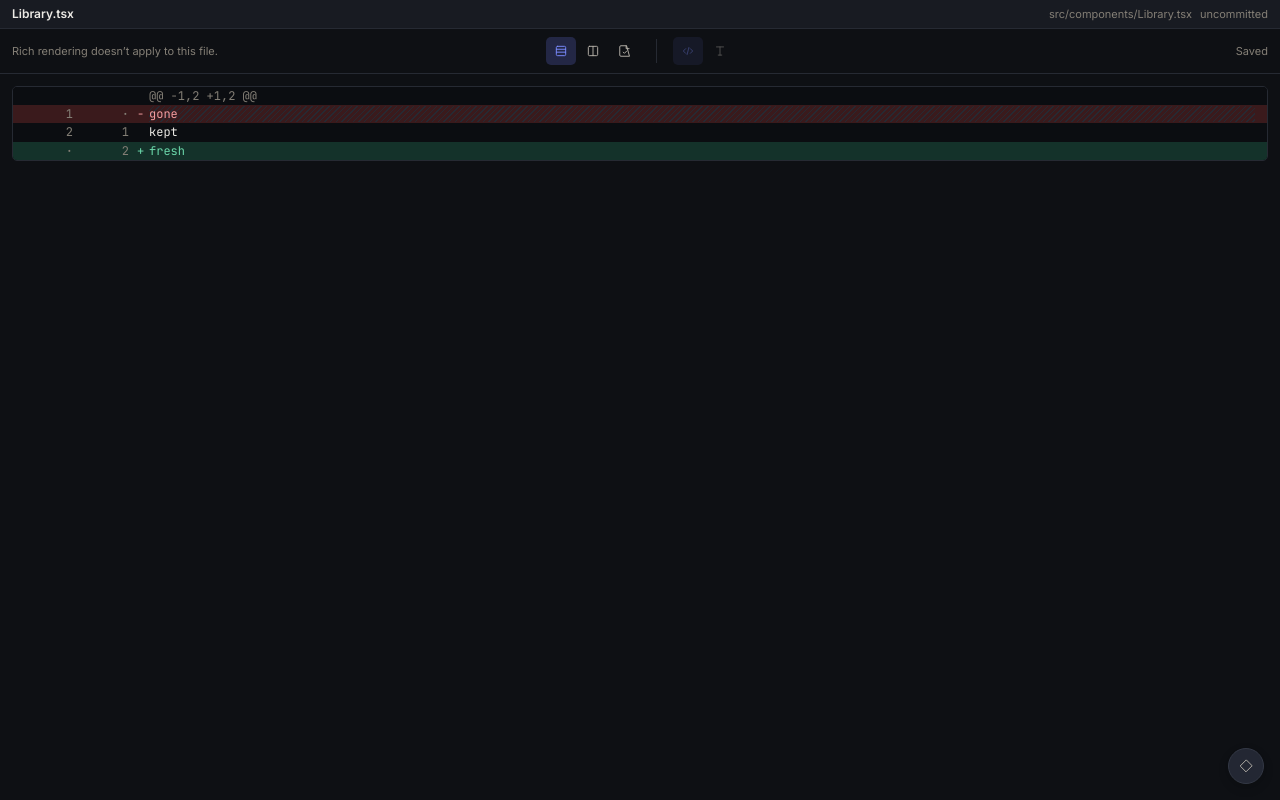
Test case: Final visualization (DFV-FR-15; supersedes DFV-FR-14) › renders the whole new revision with its changes marked, in one gutter column
The image size is (1280, 800).
Expected: the element showing "@@ -1,2 +1,2 @@" is shown, top-left (13, 87), bottom-right (1267, 105)
Click the radio button named "Final": {"x": 624, "y": 51} top-left (610, 37), bottom-right (640, 65)
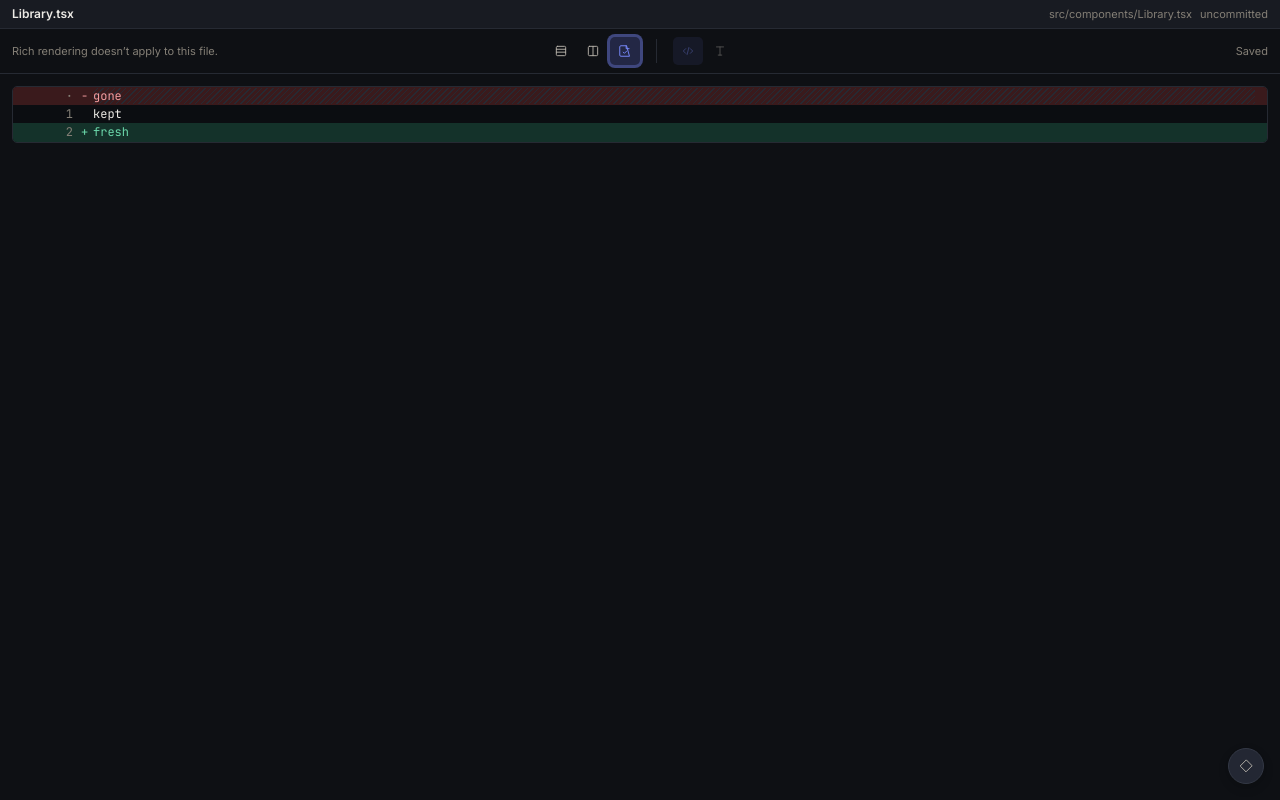
Expected: the element with class "diff-line__text" is shown, top-left (13, 123), bottom-right (1267, 142)
Expected: no elements with class "diff-line__gutter--old" are shown
